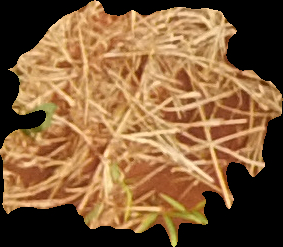soil: (2, 2, 282, 247)
